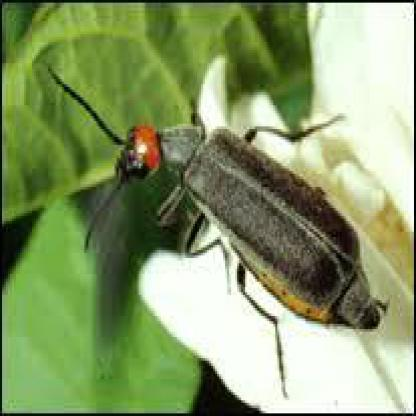blister beetle: (50, 64, 381, 332)
